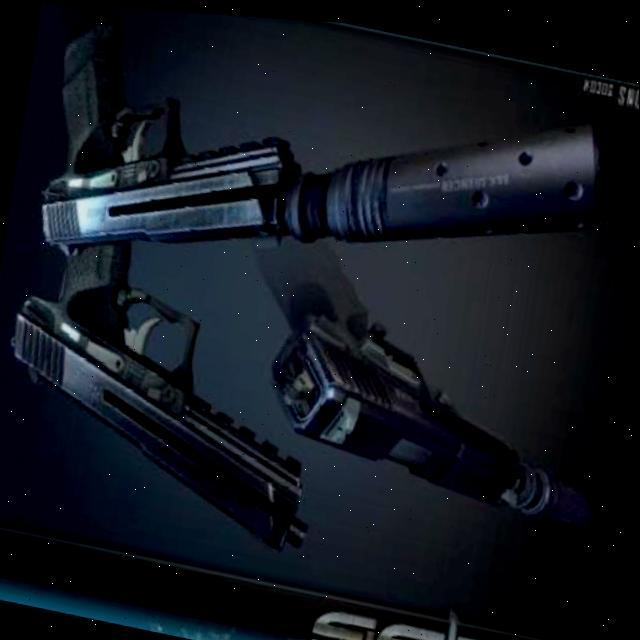gun: (0, 214, 350, 560), (214, 212, 551, 504), (27, 7, 310, 297)
